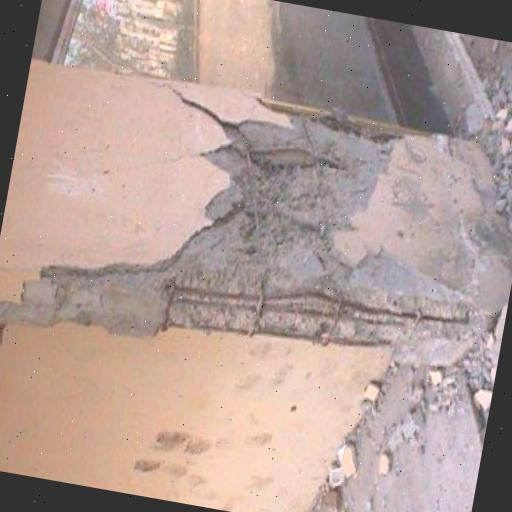spalling: (3, 98, 483, 372)
